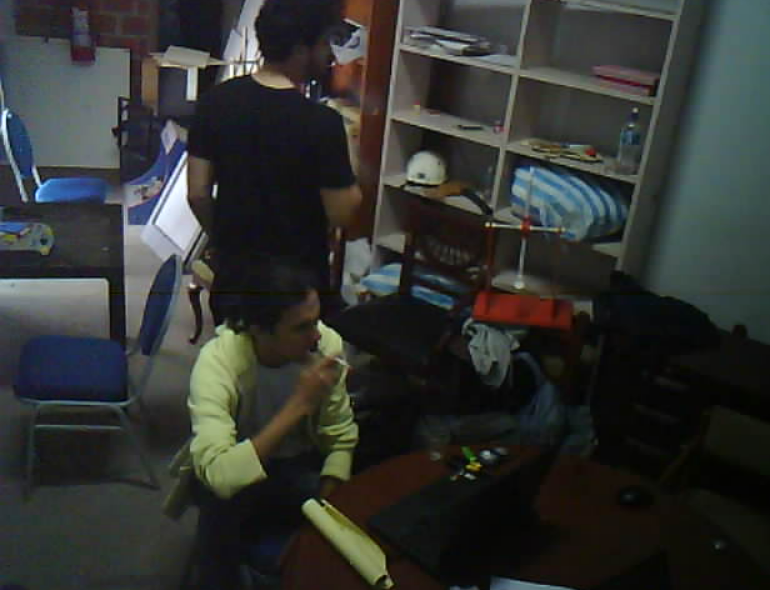person: (174, 257, 382, 590), (179, 0, 370, 330)
